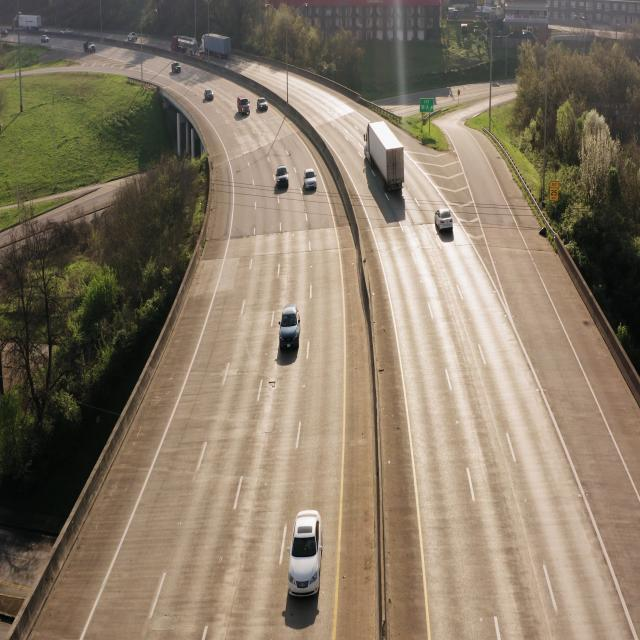Car: (286, 508, 327, 608), (363, 118, 407, 200), (277, 305, 302, 360), (434, 205, 454, 238), (302, 165, 320, 195), (276, 162, 291, 195)
